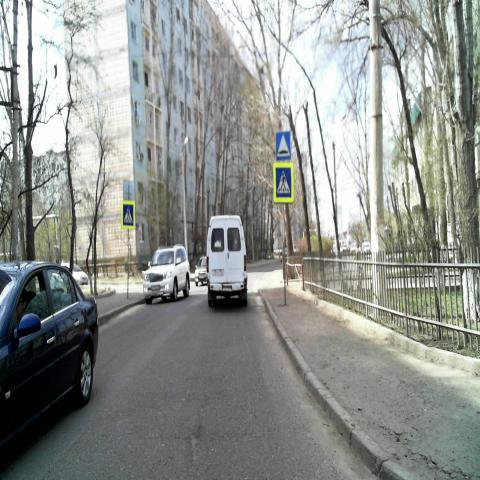5_20: (276, 131, 290, 161)
